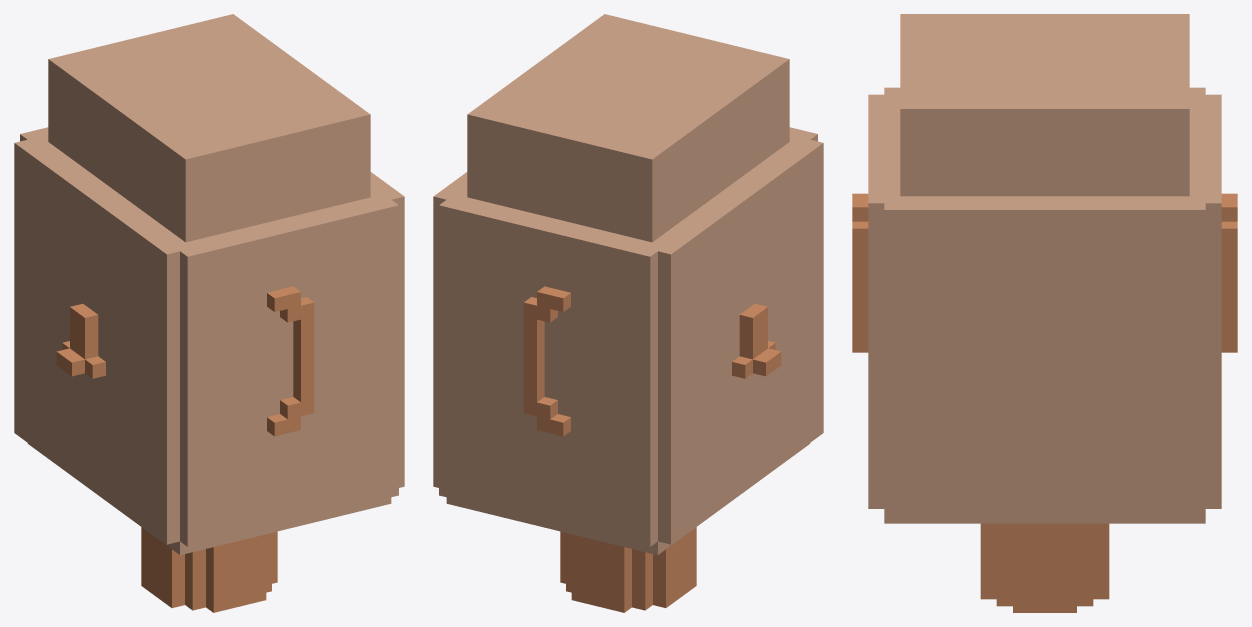
Rendered from head_halfling.obj.
3 renders of one model, left to right at view 1: azimuth 30°, elevation 25°; view 2: azimuth 150°, elevation 25°; view 3: azimuth 270°, elevation 25°, orthographic. The views are drawn at different scales.
Parts seen in each view (by area): view 1: head_human_box; view 2: head_human_box; view 3: head_human_box.
Boxes of the visible parts, x1,y1,x2,y2 form: head_human_box: (14, 14, 404, 612); head_human_box: (433, 14, 823, 612); head_human_box: (852, 14, 1237, 612).
Size of the model in its own units: 20 by 36 by 24.
